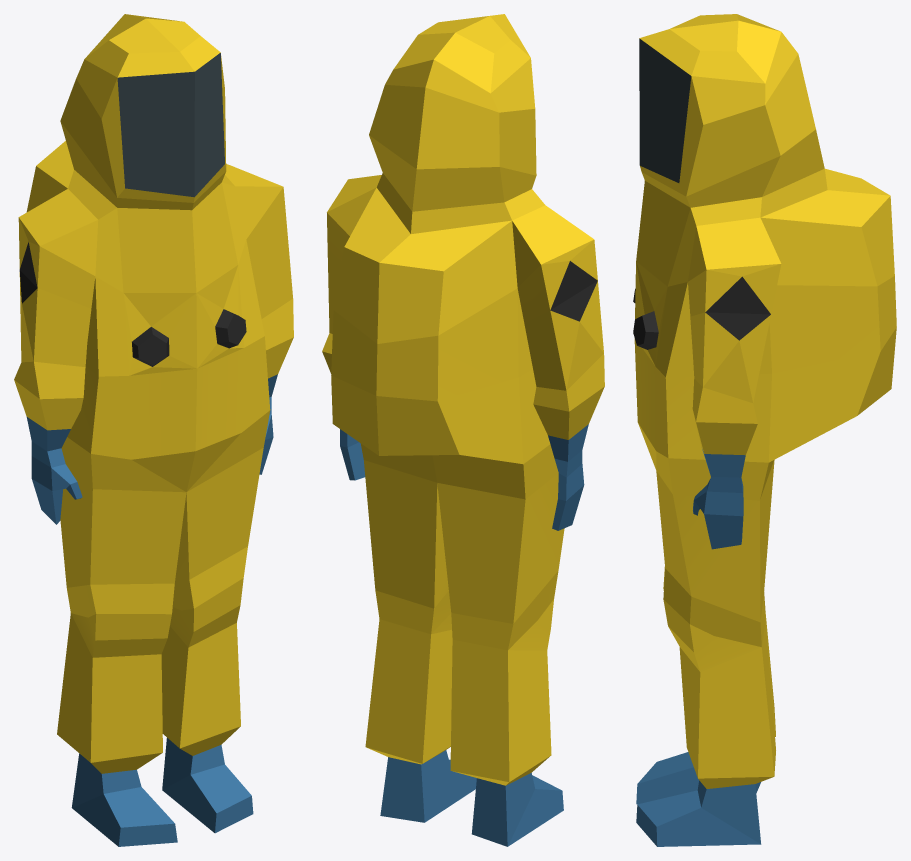
Rendered from people_man-hazmat.fbx.
3 views of the same model, side by side, from view 1: azimuth 30°, elevation 25°; view 2: azimuth 150°, elevation 25°; view 3: azimuth 270°, elevation 25° (orthographic).
Visible parts, largest first — view 1: people_man_hazmat; view 2: people_man_hazmat; view 3: people_man_hazmat.
Boxes of the visible parts, <box> form: people_man_hazmat: <box>14,14,293,846</box>; people_man_hazmat: <box>322,14,604,846</box>; people_man_hazmat: <box>633,14,896,846</box>.
Size of the model in its own units: 69.35 by 200 by 60.27.
